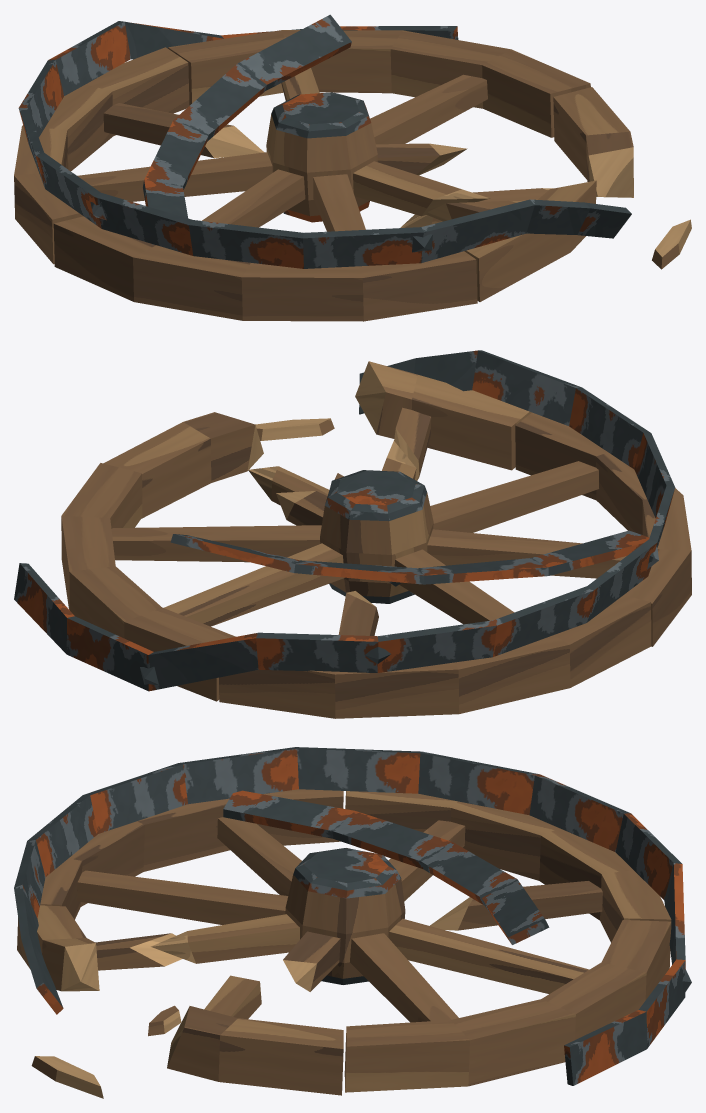
The model's file is SM_BrokenCartWheel.fbx.
The picture shows the model from 3 angles, top to bottom: view 1: azimuth 30°, elevation 25°; view 2: azimuth 150°, elevation 25°; view 3: azimuth 270°, elevation 25°; orthographic projection. The views are drawn at different scales.
Visible parts, largest first — view 1: SM_BrokenCartWheel; view 2: SM_BrokenCartWheel; view 3: SM_BrokenCartWheel.
Boxes of the visible parts, x1,y1,x2,y2 form: SM_BrokenCartWheel: [14, 14, 691, 321]; SM_BrokenCartWheel: [14, 350, 691, 718]; SM_BrokenCartWheel: [14, 747, 691, 1098].
Bounding box in the file's own units: 0.9806 × 0.1868 × 1.02.
